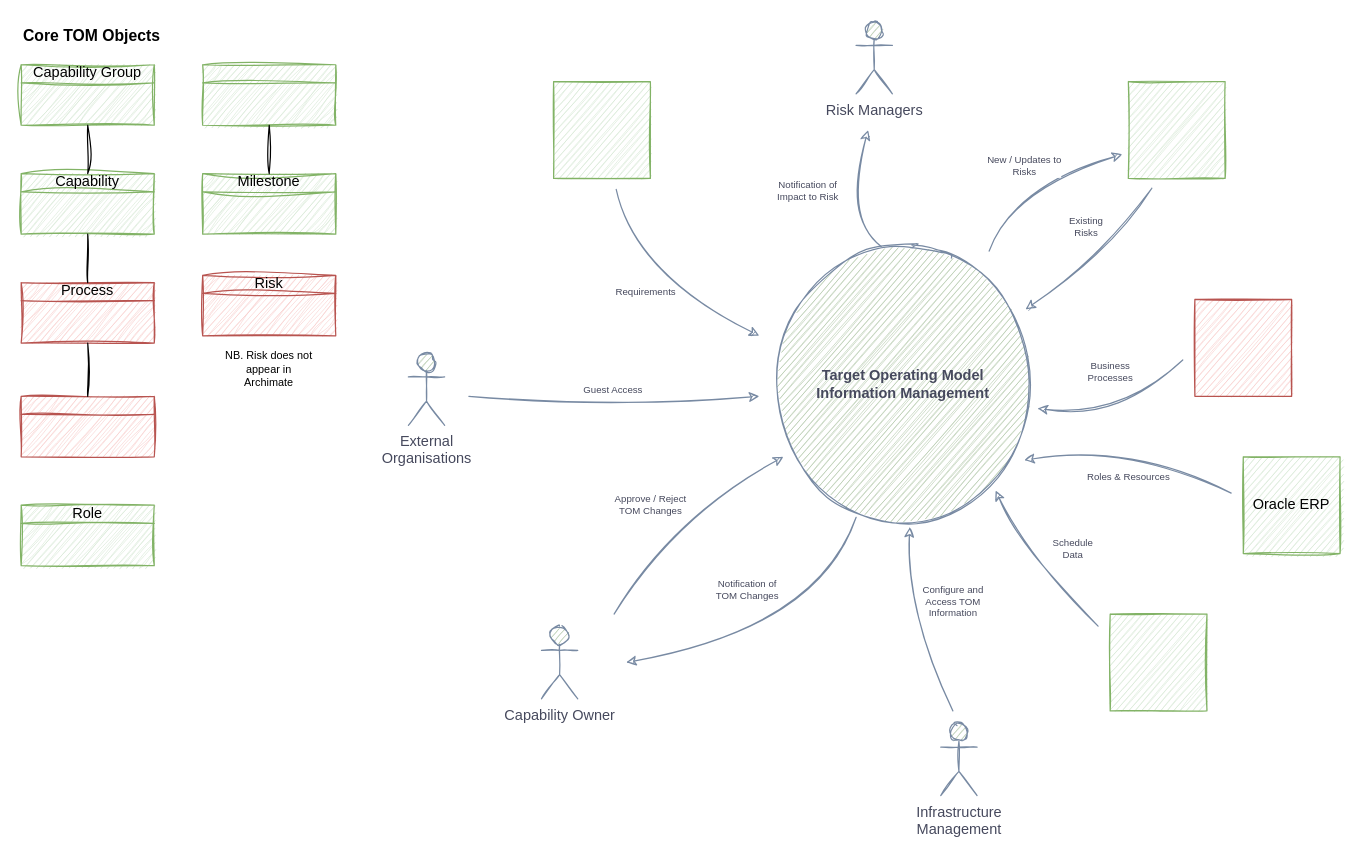
Image size: 1361x860. Some labels were removed from this diagram. Each missing label, with the centre of its shape:
"Enterprise Bridge" goes at point 1243,347.
"Organisation State" goes at point 268,94.
"Primavera P6" goes at point 1158,662.
"Safety Management System" goes at point 601,129.
"Task" goes at point 87,426.
"Xactium Risk Management" goes at point 1176,129.
